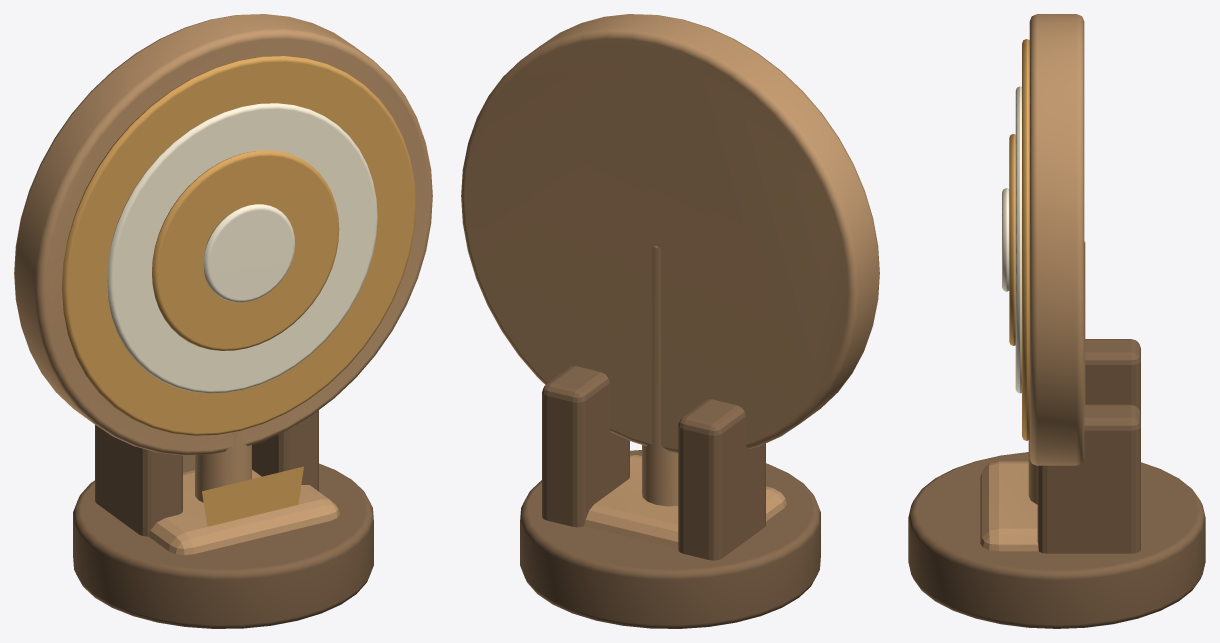
The model's file is target-heavy.glb.
The picture shows the model from 3 angles, left to right: view 1: azimuth 30°, elevation 25°; view 2: azimuth 150°, elevation 25°; view 3: azimuth 270°, elevation 25°; orthographic projection.
Parts seen in each view (by area): view 1: Heavy painted outer ring__runtime, Heavy wooden disc__runtime, Heavy cream ring__runtime, Heavy pedestal__runtime, Heavy inner ring__runtime, Heavy bullseye__runtime, Heavy target support__runtime, Heavy pedestal inset__runtime, Heavy target shield badge__runtime, Heavy target support.001__runtime, Heavy upright__runtime; view 2: Heavy wooden disc__runtime, Heavy pedestal__runtime, Heavy target support__runtime, Heavy target support.001__runtime, Heavy pedestal inset__runtime, Heavy upright__runtime; view 3: Heavy pedestal__runtime, Heavy wooden disc__runtime, Heavy target support.001__runtime, Heavy pedestal inset__runtime, Heavy target support__runtime, Heavy painted outer ring__runtime, Heavy cream ring__runtime, Heavy inner ring__runtime, Heavy bullseye__runtime, Heavy upright__runtime.
Boxes of the visible parts, left/top/right/bottom form: Heavy painted outer ring__runtime: left=61, top=56, right=415, bottom=435; Heavy wooden disc__runtime: left=14, top=14, right=432, bottom=455; Heavy cream ring__runtime: left=107, top=103, right=377, bottom=393; Heavy pedestal__runtime: left=73, top=454, right=373, bottom=628; Heavy inner ring__runtime: left=152, top=150, right=339, bottom=350; Heavy bullseye__runtime: left=203, top=204, right=295, bottom=302; Heavy target support__runtime: left=95, top=425, right=182, bottom=536; Heavy pedestal inset__runtime: left=148, top=469, right=339, bottom=555; Heavy target shield badge__runtime: left=202, top=466, right=303, bottom=526; Heavy target support.001__runtime: left=252, top=410, right=318, bottom=491; Heavy upright__runtime: left=195, top=430, right=251, bottom=502; Heavy wooden disc__runtime: left=461, top=14, right=879, bottom=453; Heavy pedestal__runtime: left=520, top=450, right=820, bottom=628; Heavy target support__runtime: left=678, top=399, right=765, bottom=560; Heavy target support.001__runtime: left=542, top=366, right=629, bottom=527; Heavy pedestal inset__runtime: left=584, top=455, right=786, bottom=548; Heavy upright__runtime: left=642, top=246, right=678, bottom=506; Heavy pedestal__runtime: left=908, top=452, right=1205, bottom=628; Heavy wooden disc__runtime: left=1029, top=14, right=1084, bottom=465; Heavy target support.001__runtime: left=1037, top=404, right=1140, bottom=553; Heavy pedestal inset__runtime: left=980, top=461, right=1038, bottom=551; Heavy target support__runtime: left=1085, top=339, right=1140, bottom=413; Heavy painted outer ring__runtime: left=1022, top=39, right=1029, bottom=440; Heavy cream ring__runtime: left=1015, top=86, right=1021, bottom=393; Heavy inner ring__runtime: left=1009, top=134, right=1015, bottom=345; Heavy bullseye__runtime: left=1002, top=188, right=1009, bottom=291; Heavy upright__runtime: left=1028, top=241, right=1085, bottom=504.
Bounding box in the file's own units: 0.7372 × 0.9817 × 0.4844.
